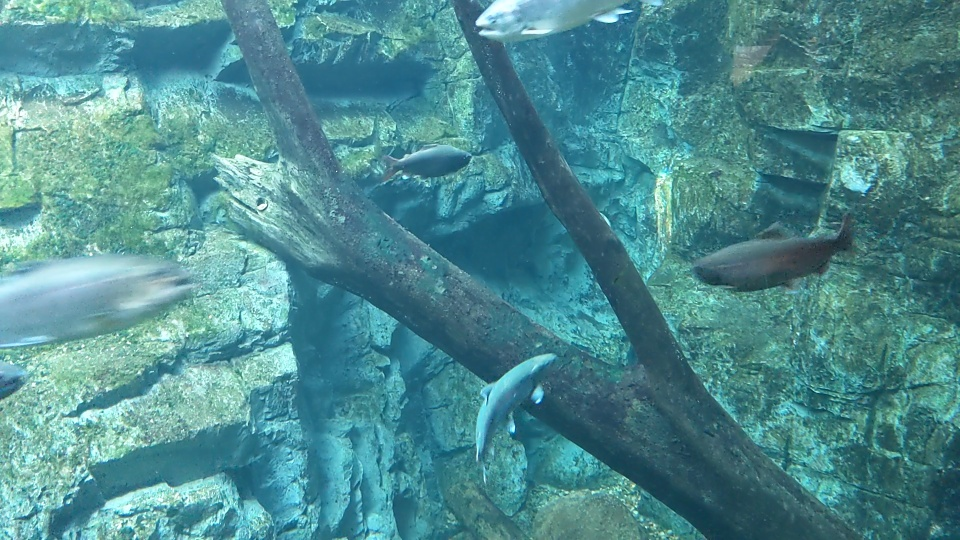Fish: (0, 252, 193, 350), (475, 349, 562, 479), (693, 224, 858, 292), (474, 0, 631, 47), (383, 140, 474, 184)
